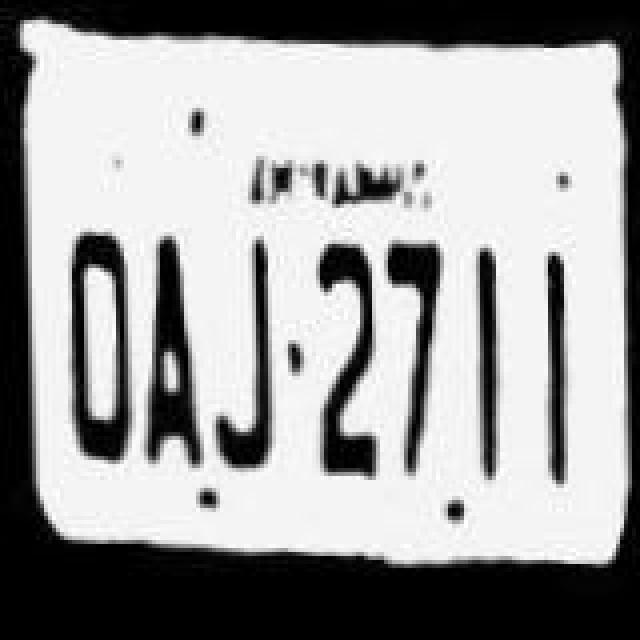1: (522, 212, 582, 488), (454, 220, 514, 484)
2: (300, 220, 388, 500)
7: (382, 212, 458, 480)
A: (136, 230, 208, 482)
J: (204, 222, 292, 490)
O: (48, 224, 136, 492)
